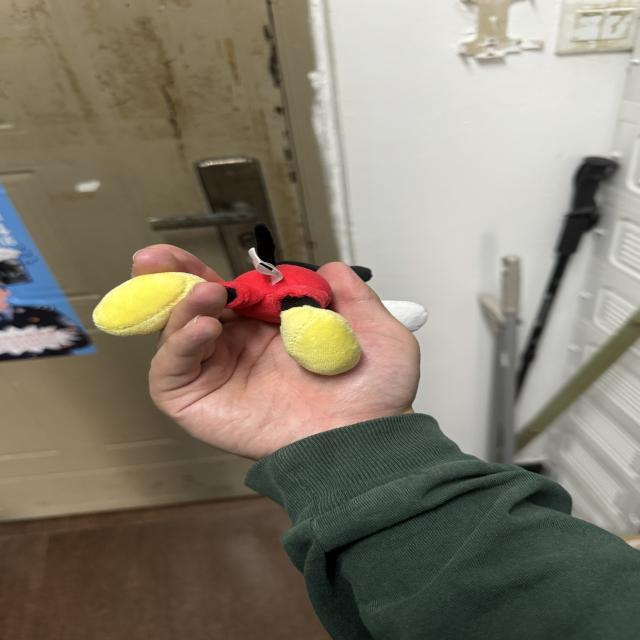mickey: (220, 223, 360, 375), (222, 223, 360, 374)
